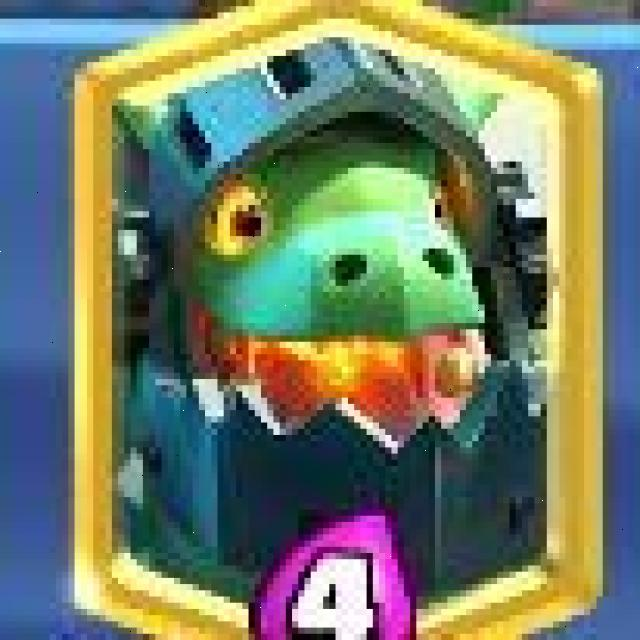Inferno_Dragon: (87, 3, 601, 640)
